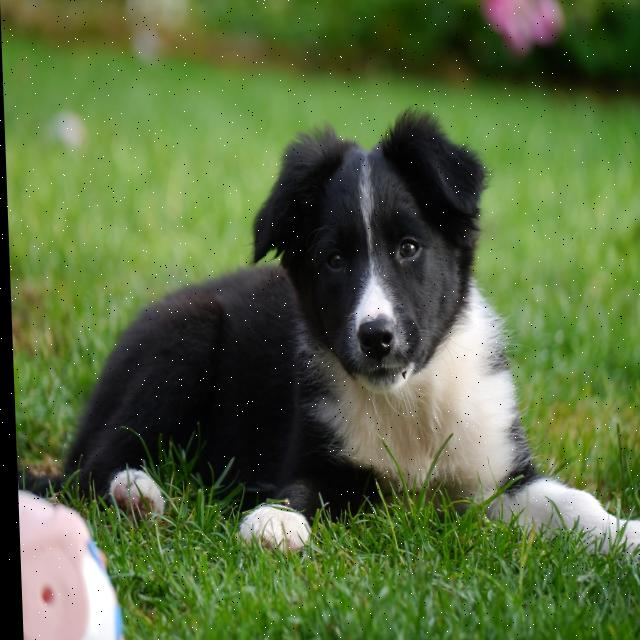BORDER_COLLIE: (3, 102, 640, 589)
